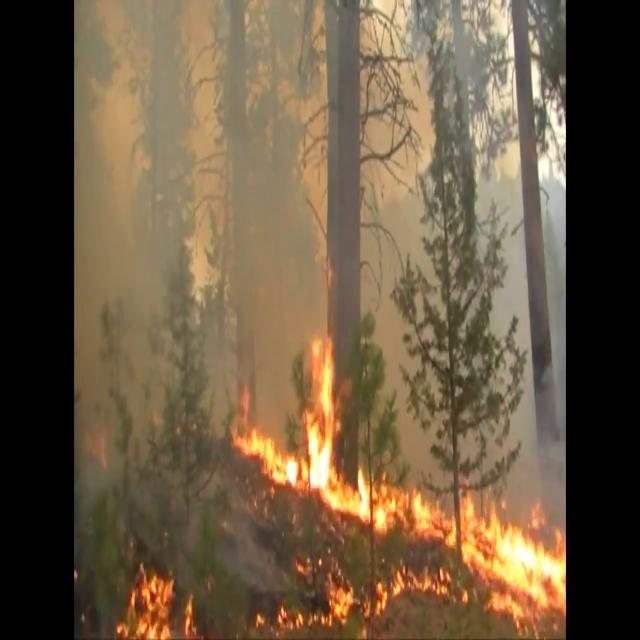Fire: (357, 462, 566, 622), (232, 328, 362, 516), (112, 558, 198, 638)
Smoke: (74, 1, 334, 394)
